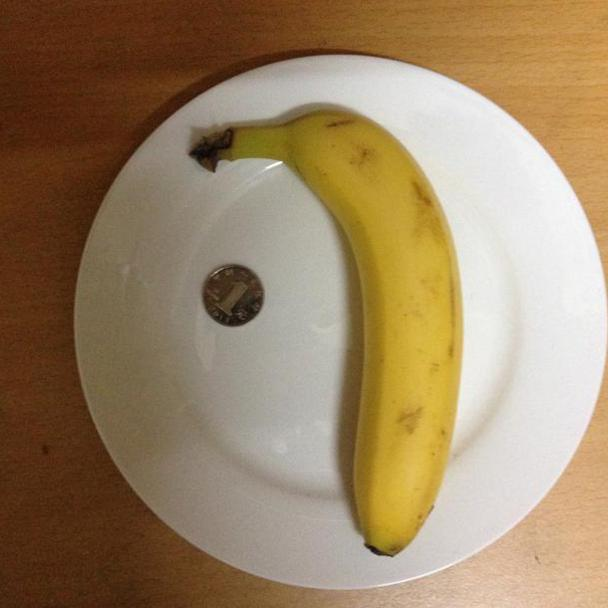banana: (191, 110, 498, 553)
